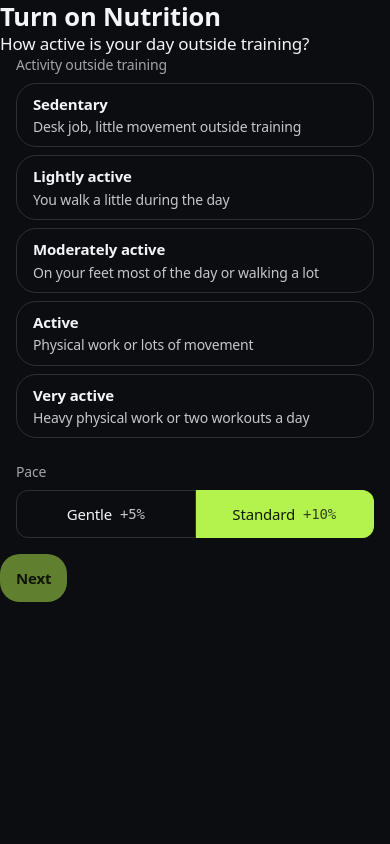
Test: NutritionSetup › does not hold back the earlier steps while the targets load
The width and height of the screenshot is (390, 844).
Click the radio button labelled "Moderately active". click: {"x": 195, "y": 261}
box: top-left (16, 228), bottom-right (374, 293)
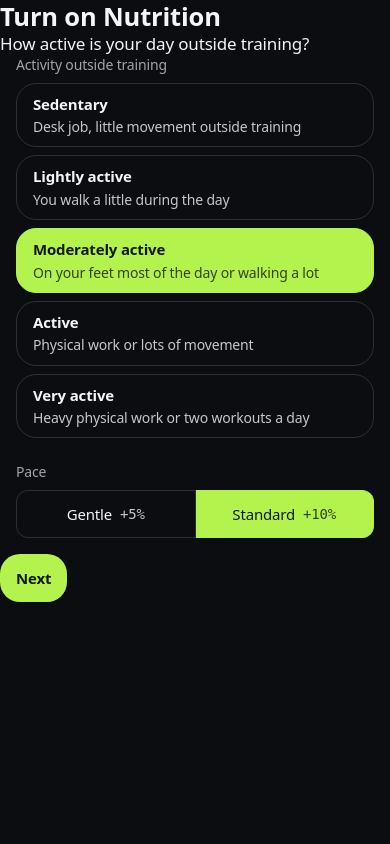
Result: the button "Next" is enabled at top-left (0, 554), bottom-right (67, 602)
